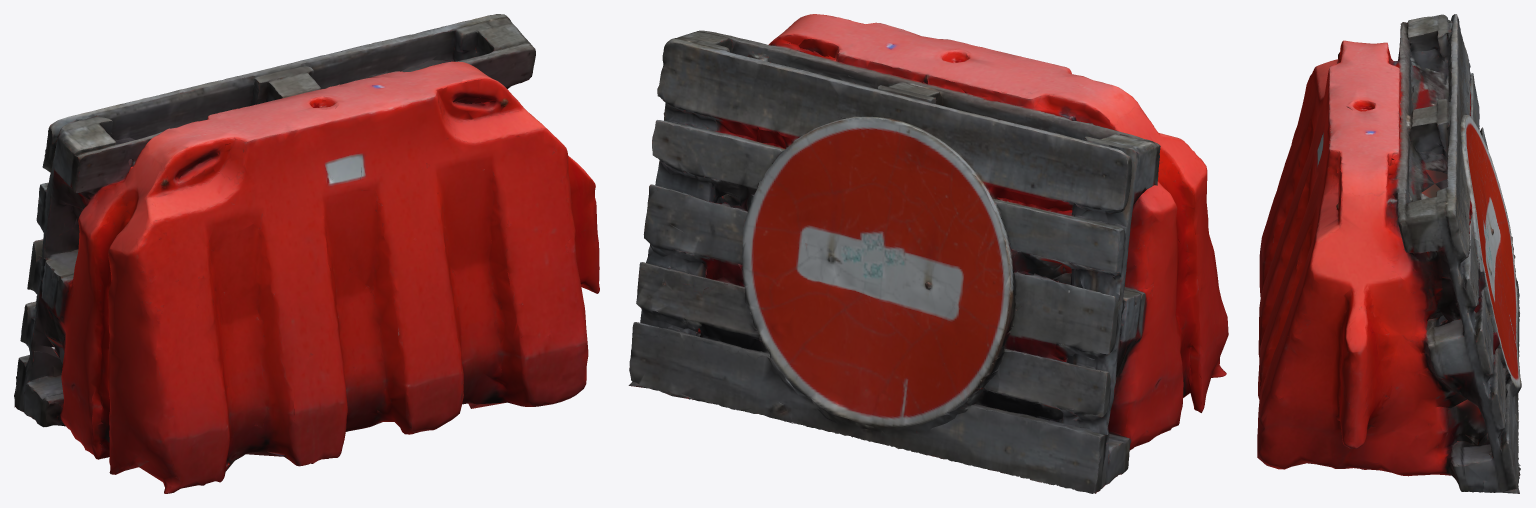
Rendered from blockage.glb.
The picture shows the model from 3 angles, left to right: view 1: azimuth 30°, elevation 25°; view 2: azimuth 150°, elevation 25°; view 3: azimuth 270°, elevation 25°; orthographic projection. The views are drawn at different scales.
Visible parts, largest first — view 1: meshNode_1; view 2: meshNode_1; view 3: meshNode_1.
Boxes of the visible parts, x1=… form: meshNode_1: x1=14, y1=14, x2=599, y2=493; meshNode_1: x1=628, y1=14, x2=1228, y2=493; meshNode_1: x1=1257, y1=14, x2=1521, y2=493.
Size of the model in its own units: 18.52 by 11.28 by 9.44.
1 material, 1 textured.
